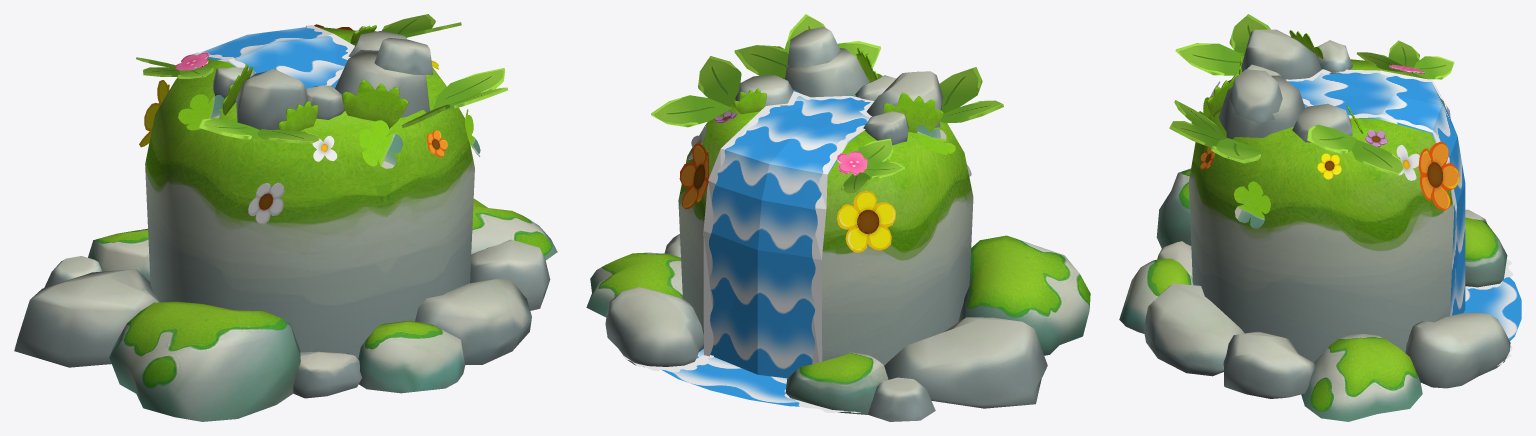
Rendered from SpringSpringOdysseyStatue.fbx.
3 views of the same model, side by side, from view 1: azimuth 30°, elevation 25°; view 2: azimuth 150°, elevation 25°; view 3: azimuth 270°, elevation 25° (orthographic). The views are drawn at different scales.
Parts seen in each view (by area): view 1: SpringSpring, Waterfall, WaterfallSkirt; view 2: SpringSpring, Waterfall, WaterfallSkirt, Pond; view 3: SpringSpring, Waterfall, Pond, WaterfallSkirt.
Boxes of the visible parts, box(x1,y1,x2,y2) form: SpringSpring: box(14, 14, 557, 421); Waterfall: box(196, 27, 347, 88); WaterfallSkirt: box(192, 25, 354, 85); SpringSpring: box(586, 14, 1090, 421); Waterfall: box(709, 90, 870, 378); WaterfallSkirt: box(624, 91, 874, 412); Pond: box(661, 348, 799, 406); SpringSpring: box(1119, 14, 1510, 421); Waterfall: box(1288, 72, 1465, 315); Pond: box(1463, 277, 1521, 340); WaterfallSkirt: box(1285, 69, 1512, 365).
Bounding box in the file's own units: 29.17 × 15.46 × 21.78.
Materials: 3 (3 with a texture image).
